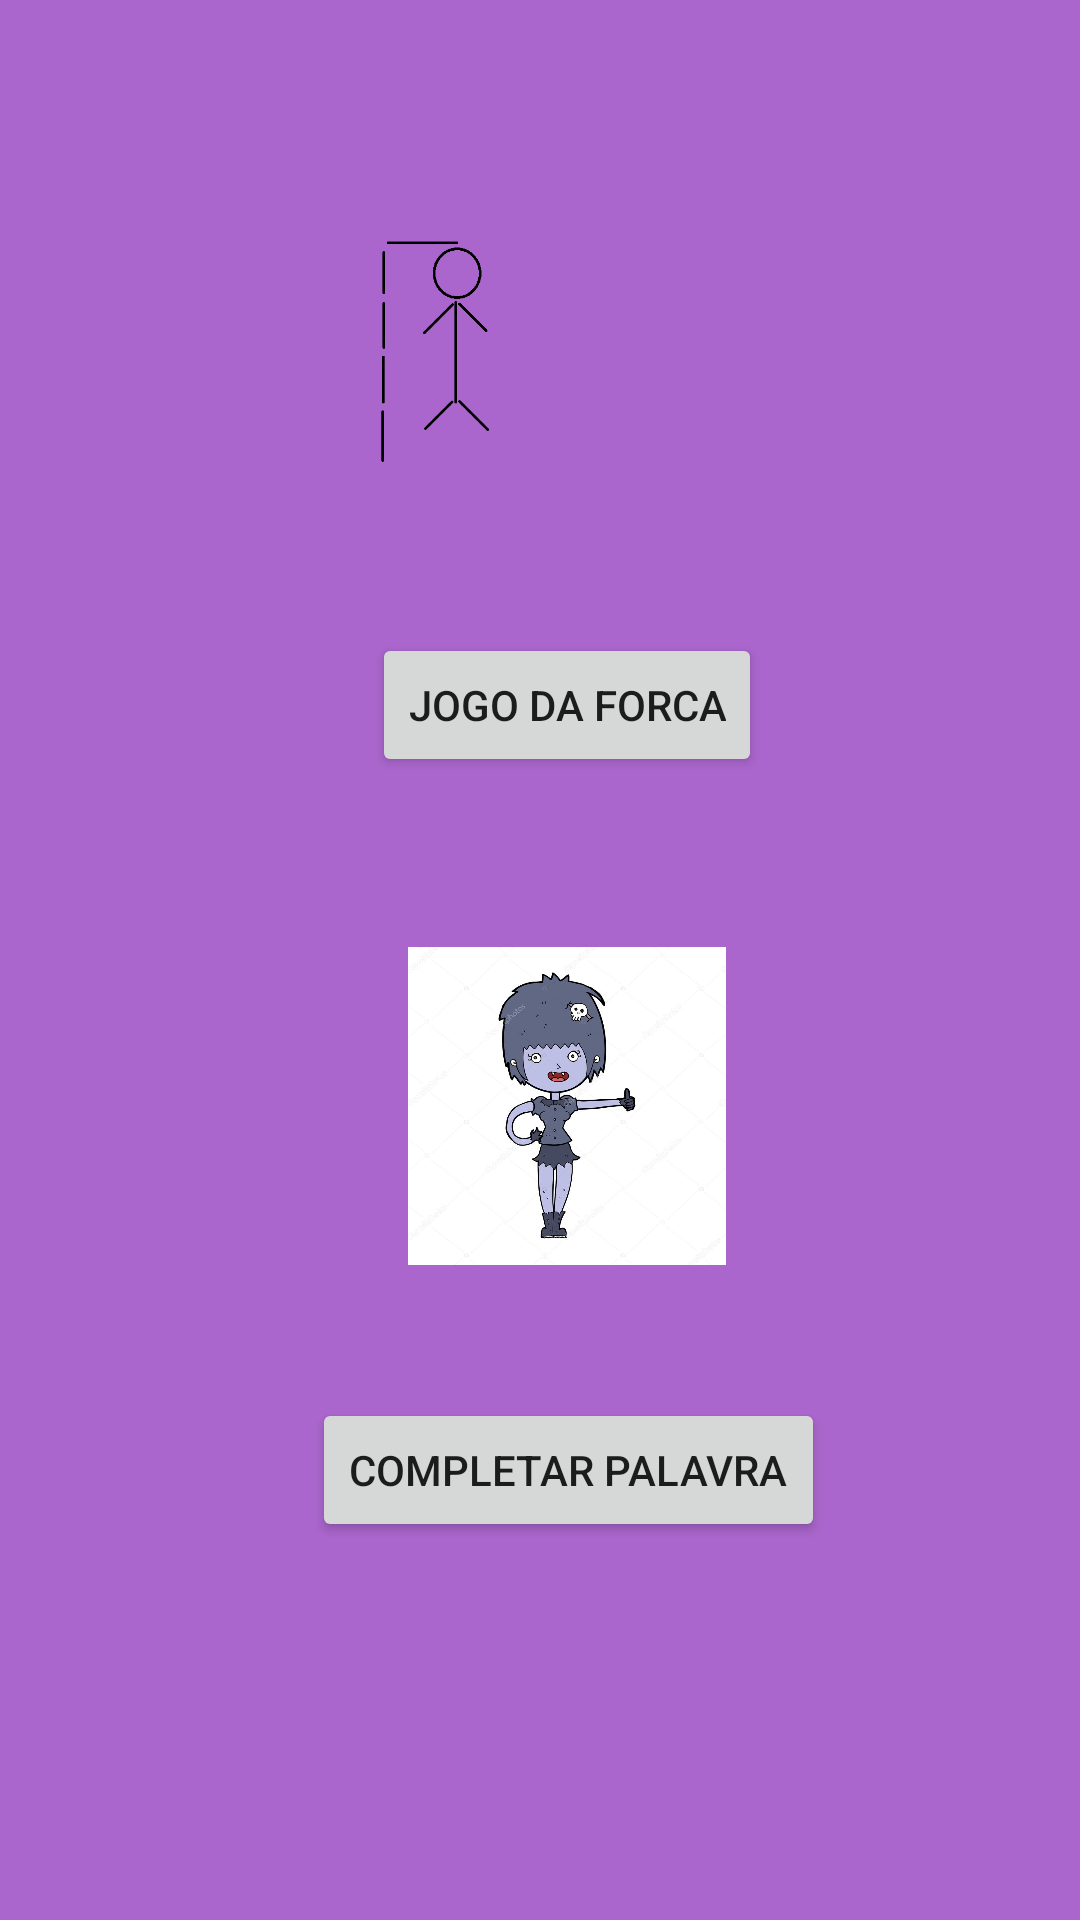

Icons on this 1080 × 1920 Android screen, each with the point to tap as point (x, y):
meninafeliz: point (567, 1106)
